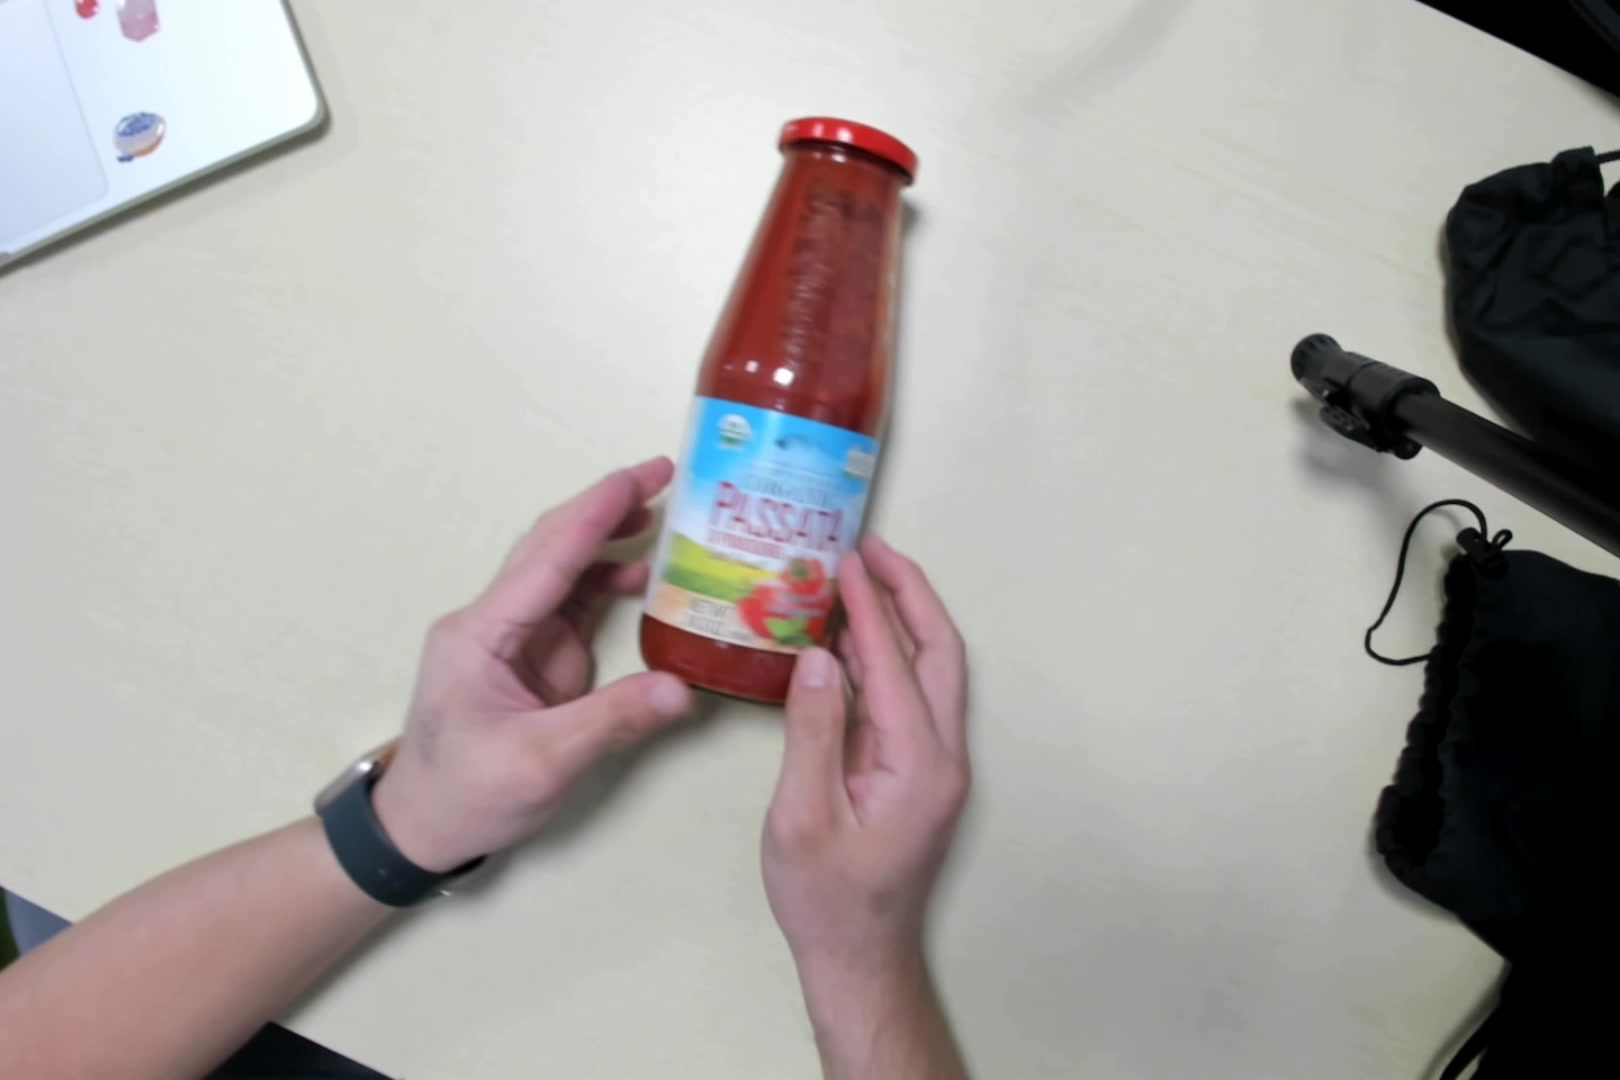PastaSauce_600-699g_NonHalal_NonHealthy: (656, 112, 912, 717)
